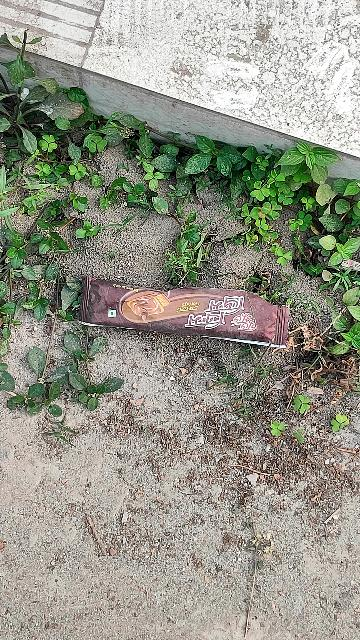packet: (68, 260, 306, 357)
